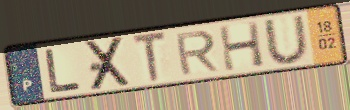H: (216, 19, 268, 73)
L: (42, 46, 85, 95)
R: (172, 28, 221, 77)
T: (130, 29, 169, 86)
U: (260, 13, 312, 66)
X: (83, 34, 134, 93)
